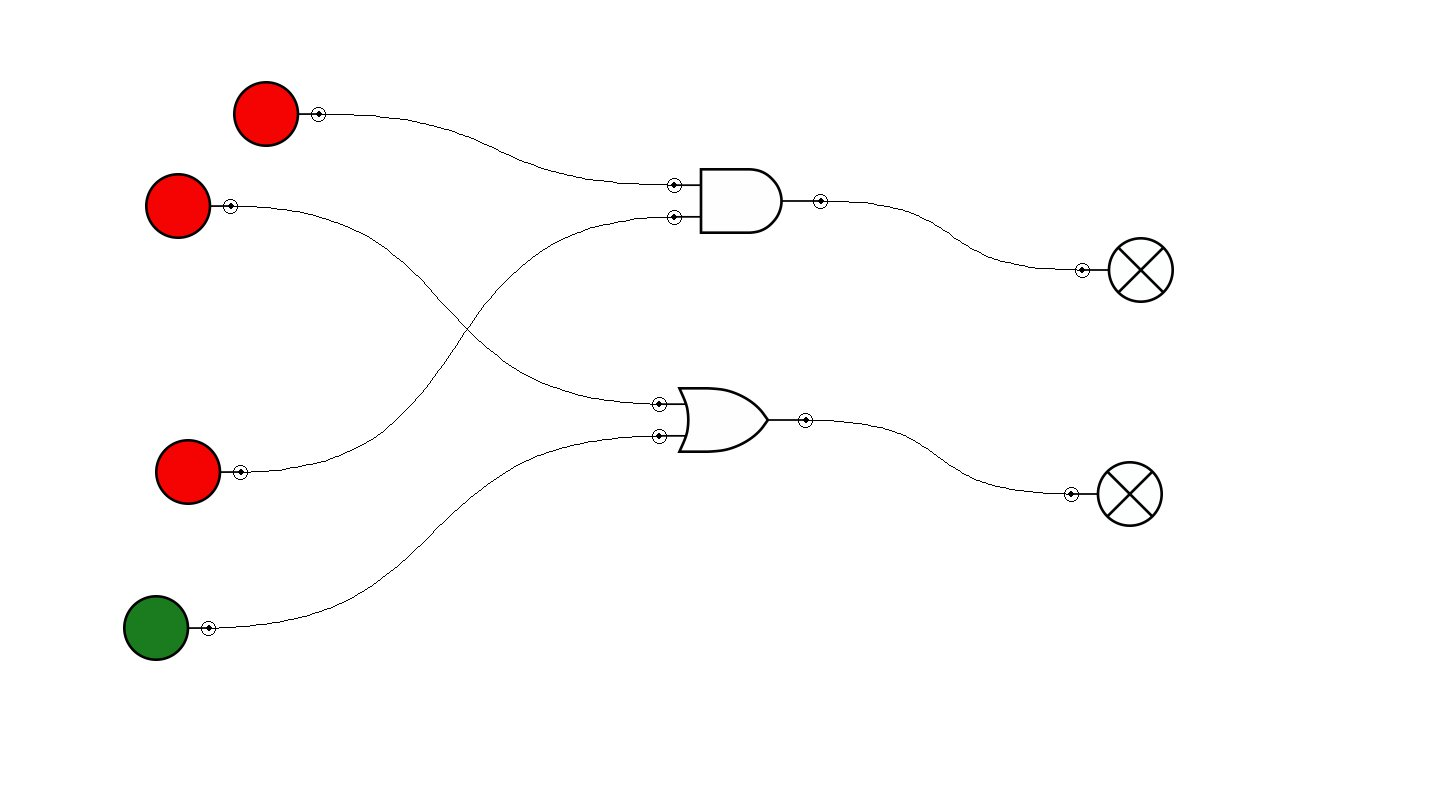and: (667, 168, 828, 234)
bulb: (1075, 237, 1174, 303), (1064, 461, 1163, 527)
or: (652, 387, 813, 453)
switch_False: (233, 81, 326, 147), (155, 439, 248, 505), (145, 173, 238, 239)
switch_True: (123, 595, 216, 661)
